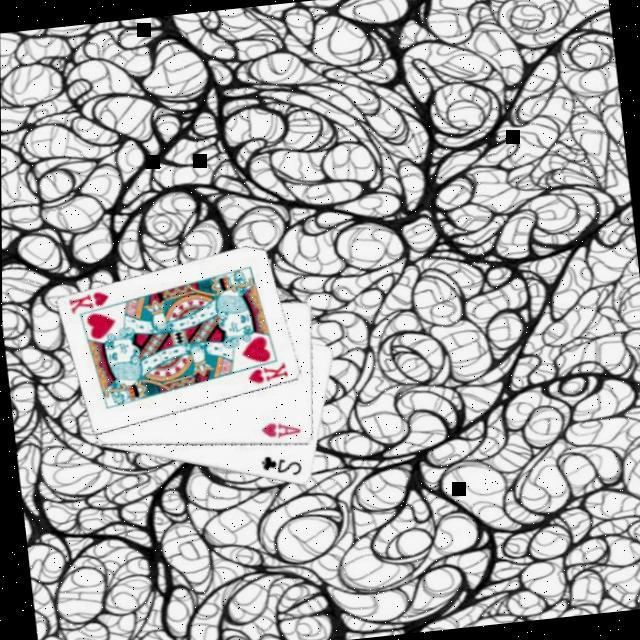2C: (254, 450, 303, 483)
AH: (254, 418, 301, 445)
KH: (63, 288, 111, 319), (241, 360, 289, 390)
